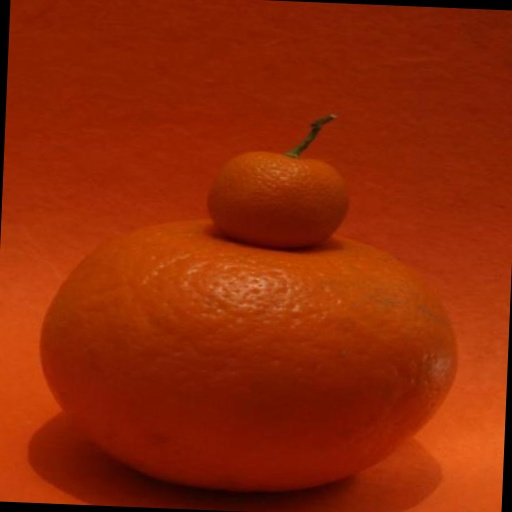fruit: (118, 118, 418, 375), (156, 56, 469, 197), (6, 174, 101, 505), (7, 165, 82, 504)
